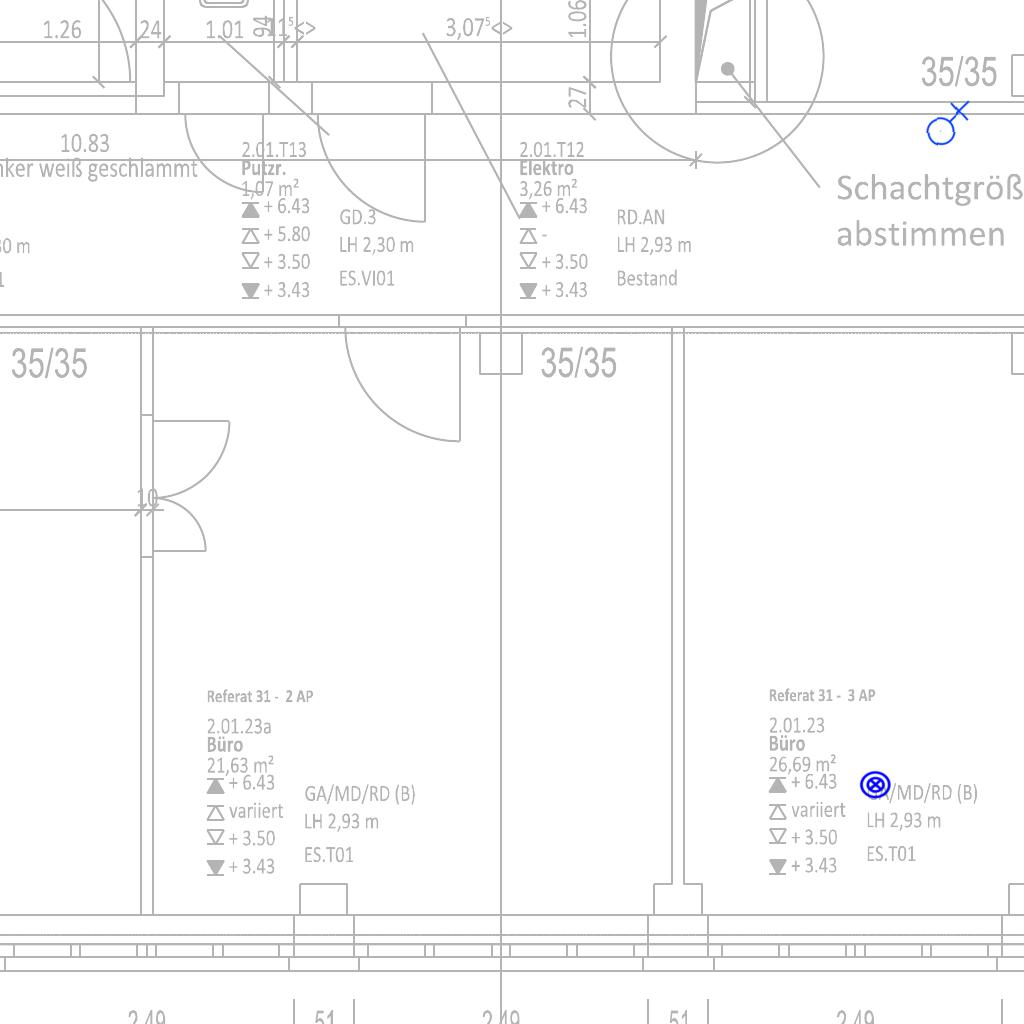Elektroanschluss_allgemein_230V_Geraeteanschlussdose_230V: (920, 97, 973, 148)
Taster_beleuchtet: (859, 768, 892, 801)
